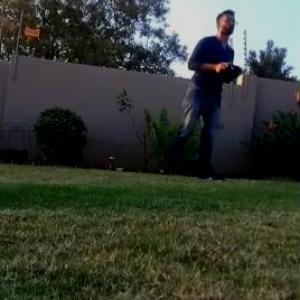follow: (157, 2, 245, 187)
